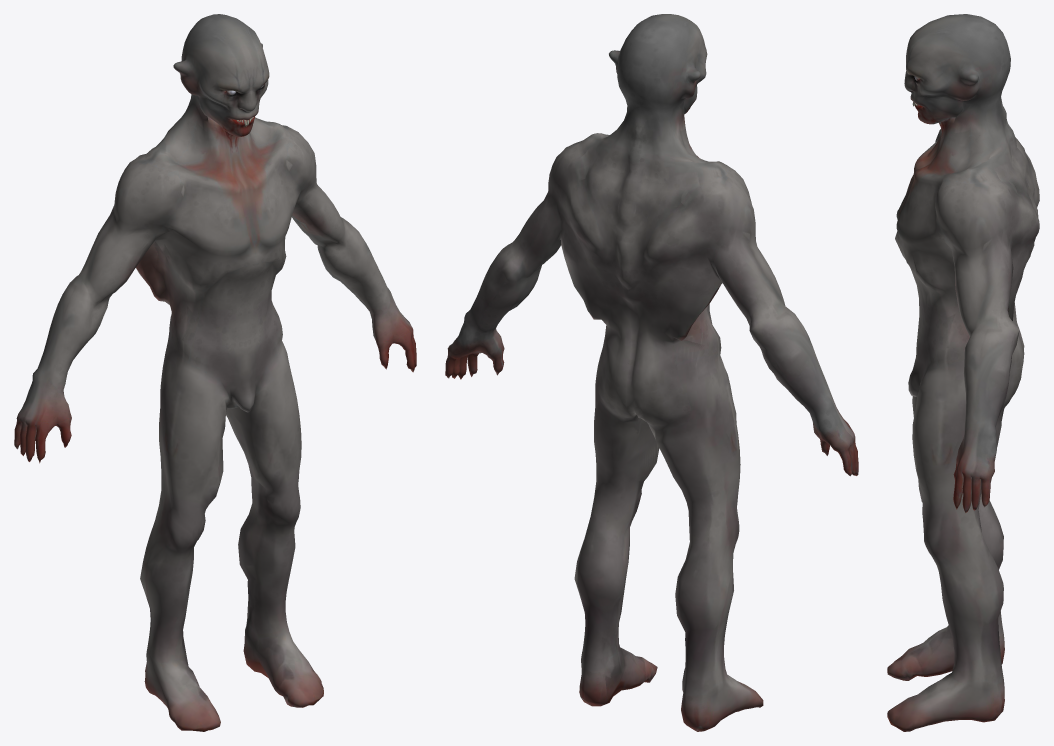
The model's file is nosferatu.obj.
3 renders of one model, left to right at view 1: azimuth 30°, elevation 25°; view 2: azimuth 150°, elevation 25°; view 3: azimuth 270°, elevation 25°, orthographic. The views are drawn at different scales.
Visible parts, largest first — view 1: bake.002; view 2: bake.002; view 3: bake.002.
Boxes of the visible parts, <box> form: bake.002: <box>14,14,416,731</box>; bake.002: <box>445,14,858,731</box>; bake.002: <box>887,14,1039,731</box>.
Size of the model in its own units: 8.12 by 13.24 by 2.69.
Materials: 3 (3 with a texture image).
